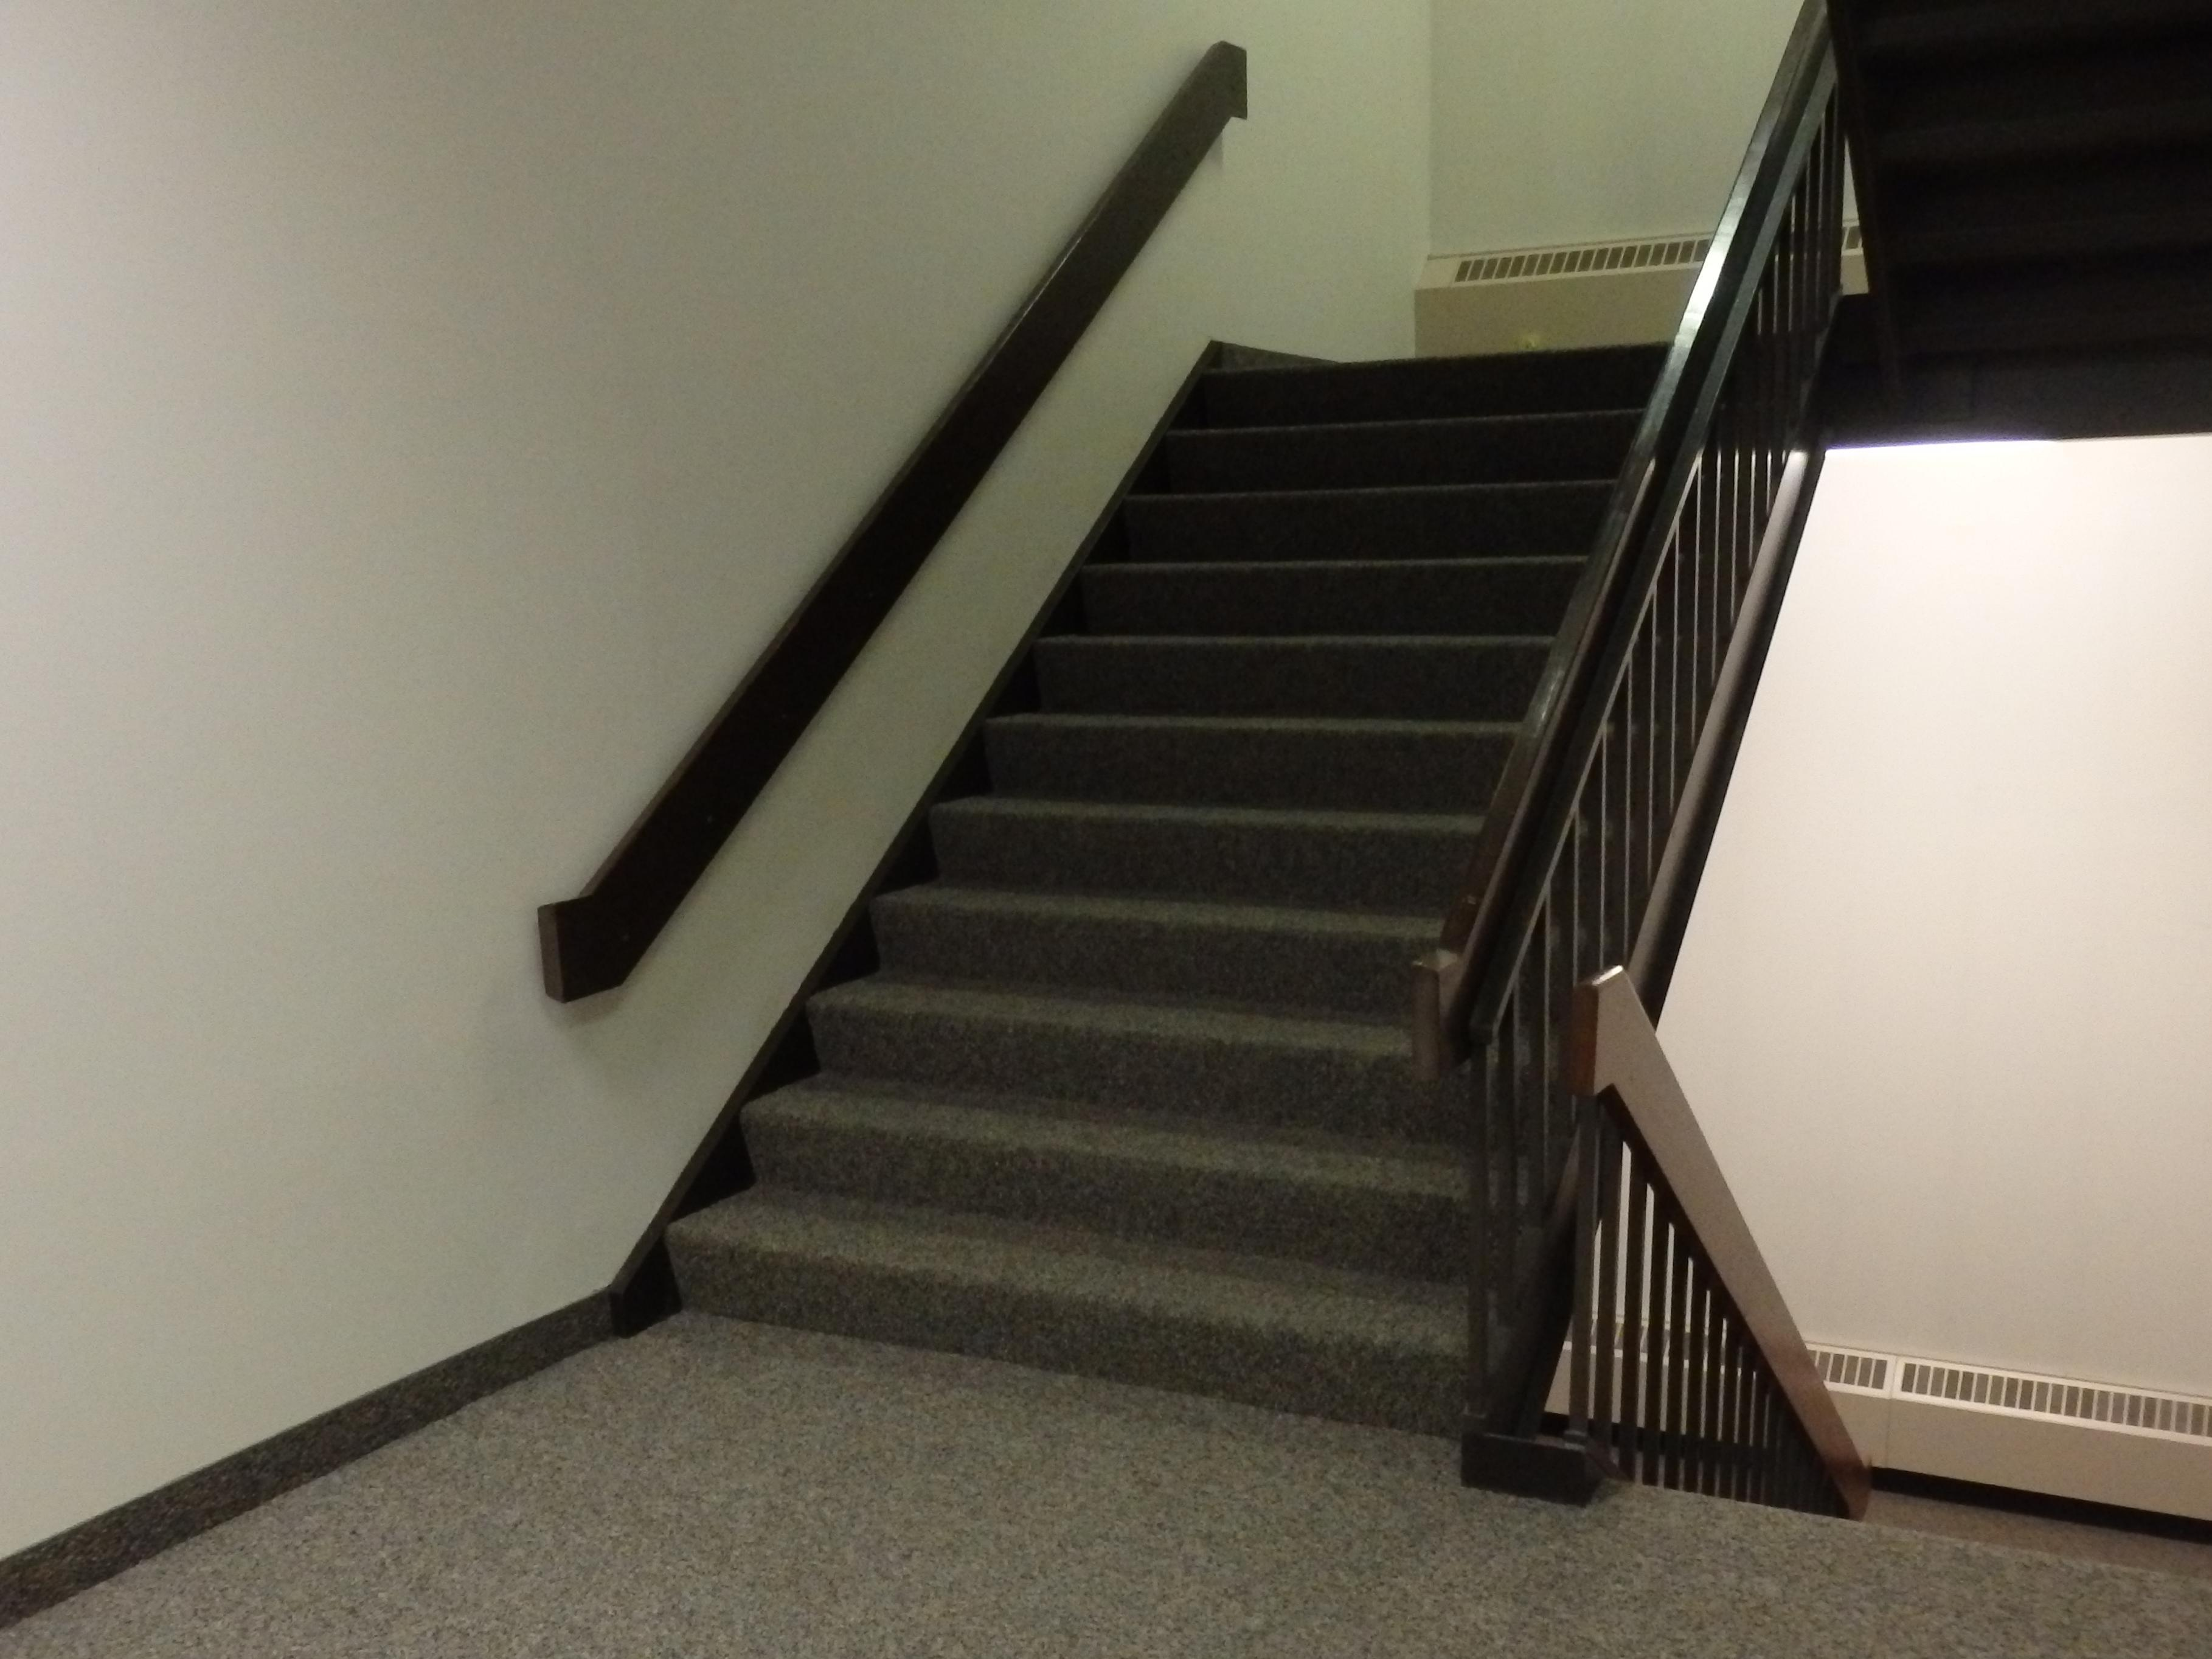stairs_up: (653, 300, 1728, 1380)
